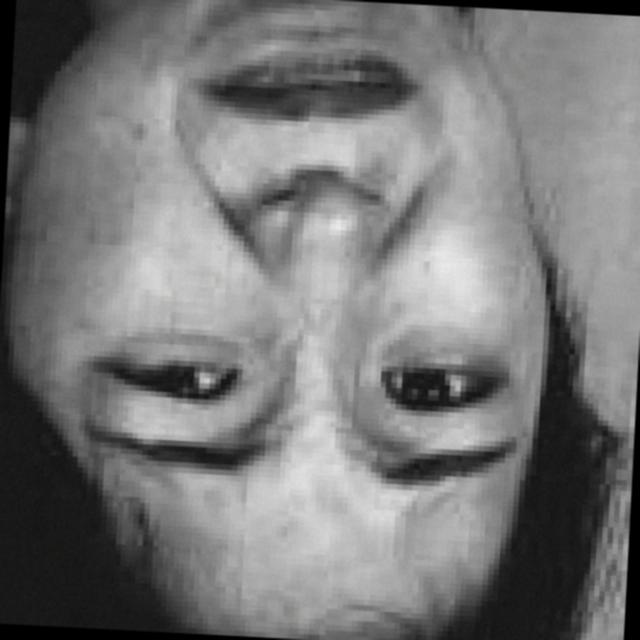disgust: (15, 0, 573, 618)
